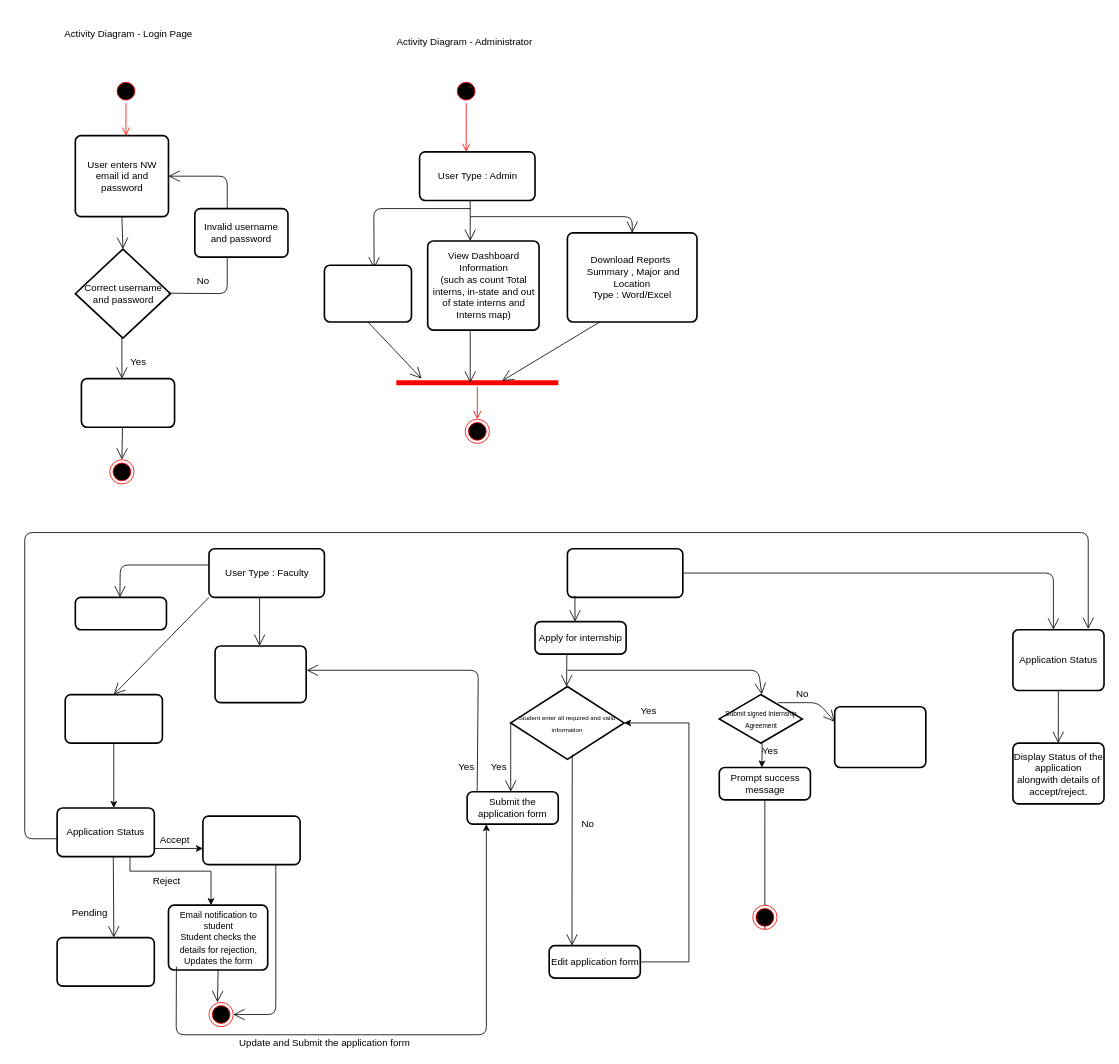
This 1119x1064 diagram has some shape labels left out. The shapes that lost their labels are listed below. From the top down, each one's centre as x and y in pixels, then its label:
At pixel 367 293: "Create/Edit/Delete other admins".
At pixel 127 402: "User logs into the system".
At pixel 624 573: "User Type : Student".
At pixel 120 613: "View Dashboard Information".
At pixel 260 674: "Receive email notification of student application submission".
At pixel 113 718: "List students who have applied internship under faculty".
At pixel 879 737: "Prompt Please submit internship agreement message".
At pixel 251 840: "Send Approval Email notification to student".
At pixel 105 961: "Update the application indicating the reason of the Pending Status".
